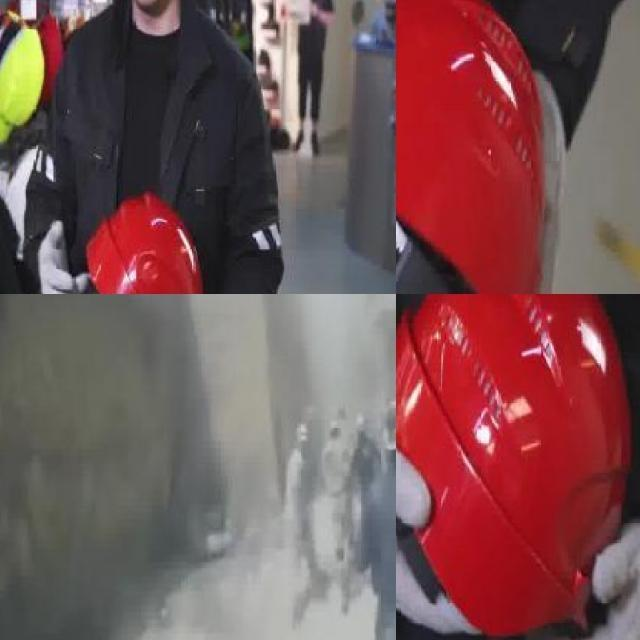apron: (396, 343, 481, 635), (525, 512, 640, 640), (515, 64, 573, 294), (35, 216, 91, 294)
